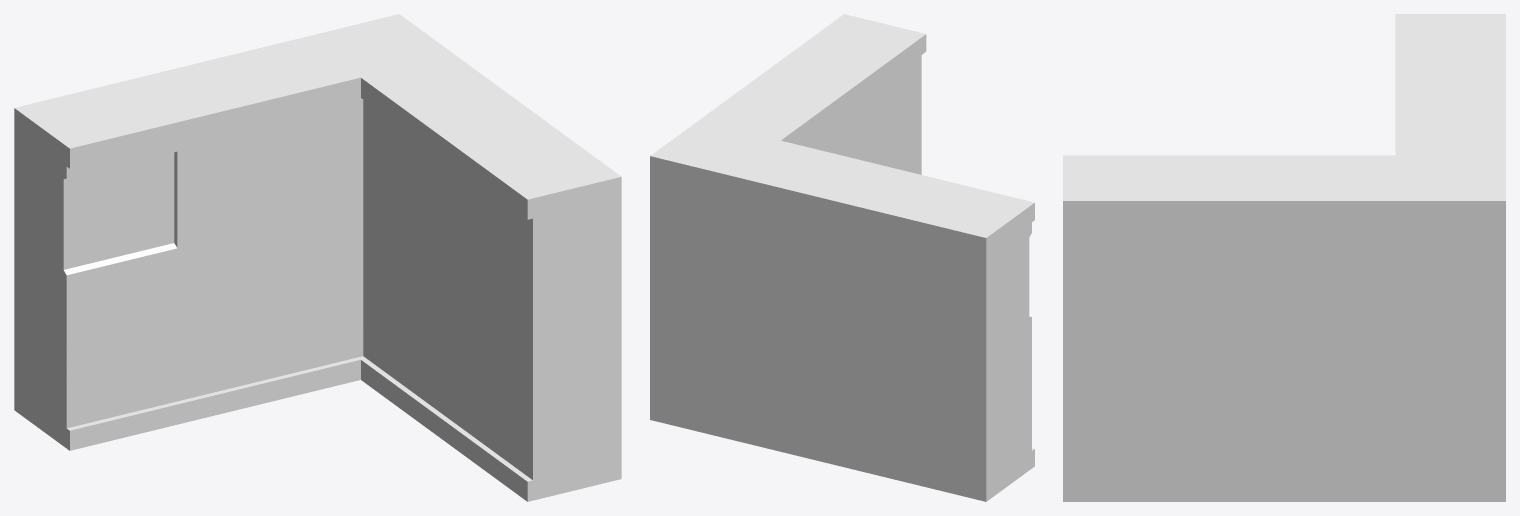
File: Wall_Corner2.glb
3 renders of one model, left to right at view 1: azimuth 30°, elevation 25°; view 2: azimuth 150°, elevation 25°; view 3: azimuth 270°, elevation 25°, orthographic. The views are drawn at different scales.
Parts seen in each view (by area): view 1: Wall_Corner2; view 2: Wall_Corner2; view 3: Wall_Corner2.
Boxes of the visible parts, left/top/right/bottom form: Wall_Corner2: left=14, top=14, right=621, bottom=501; Wall_Corner2: left=650, top=14, right=1034, bottom=501; Wall_Corner2: left=1063, top=14, right=1505, bottom=501.
Bounding box in the file's own units: 4 × 3 × 4.
1 material, 1 textured.
